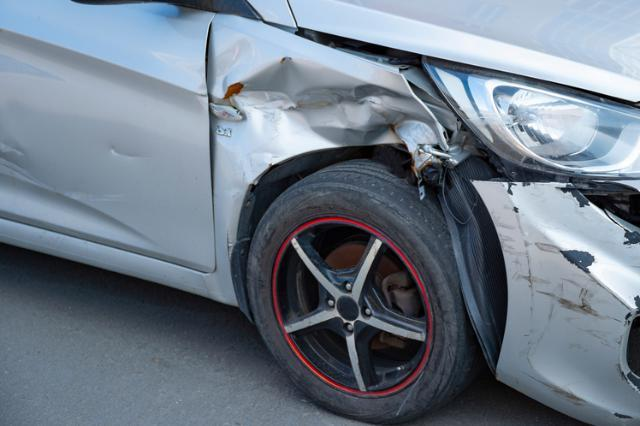Bumper: (486, 179, 640, 399)
Fender: (211, 4, 434, 174)
